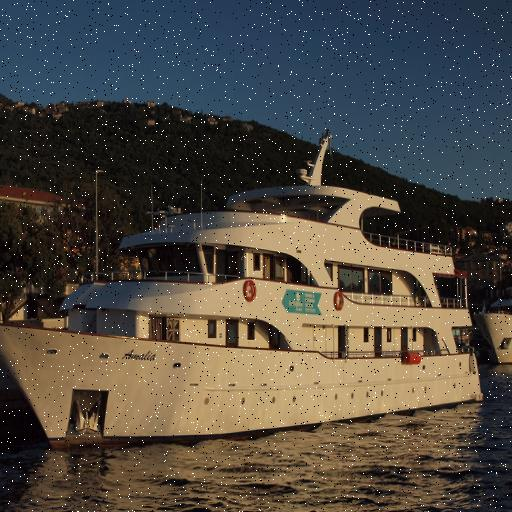cruises: (1, 127, 486, 457)
